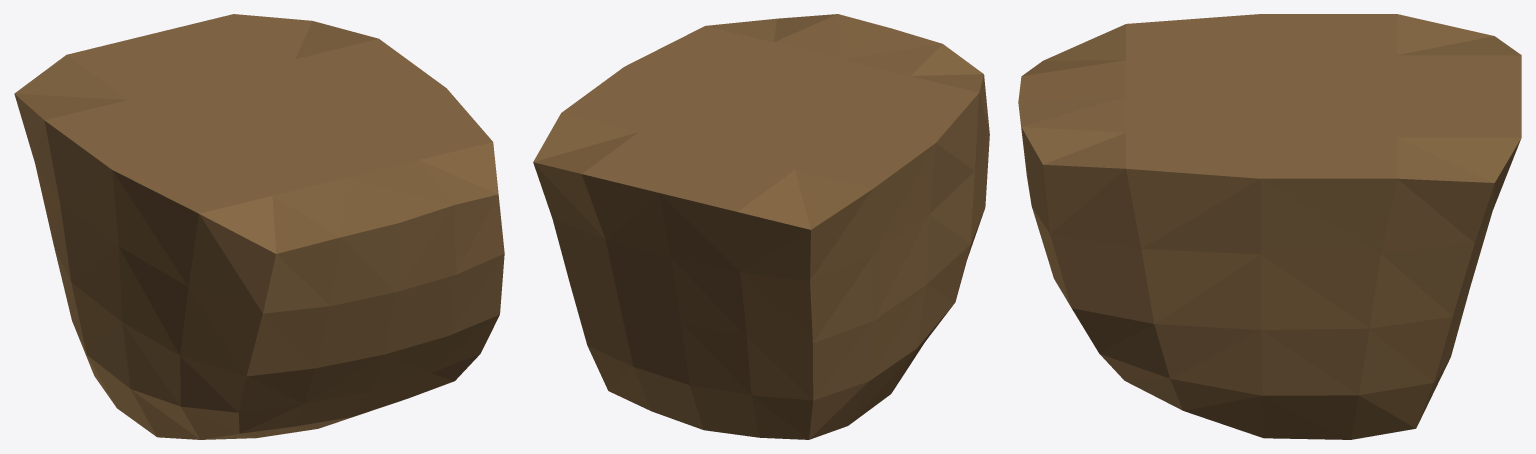
The model's file is RightFingerJoint43y_joint_visu.dae.
The picture shows the model from 3 angles, left to right: view 1: azimuth 30°, elevation 25°; view 2: azimuth 150°, elevation 25°; view 3: azimuth 270°, elevation 25°; orthographic projection. The views are drawn at different scales.
Visible parts, largest first — view 1: node; view 2: node; view 3: node.
Boxes of the visible parts, box(x1,y1,x2,y2) form: node: box(14, 14, 504, 439); node: box(533, 14, 989, 439); node: box(1018, 14, 1521, 439).
Bounding box in the file's own units: 0.00972 × 0.00847 × 0.0126.
